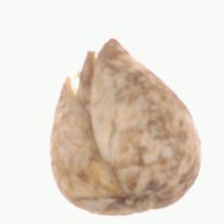L1: (63, 37, 121, 101), (102, 189, 177, 216)
L2: (50, 38, 201, 215)
